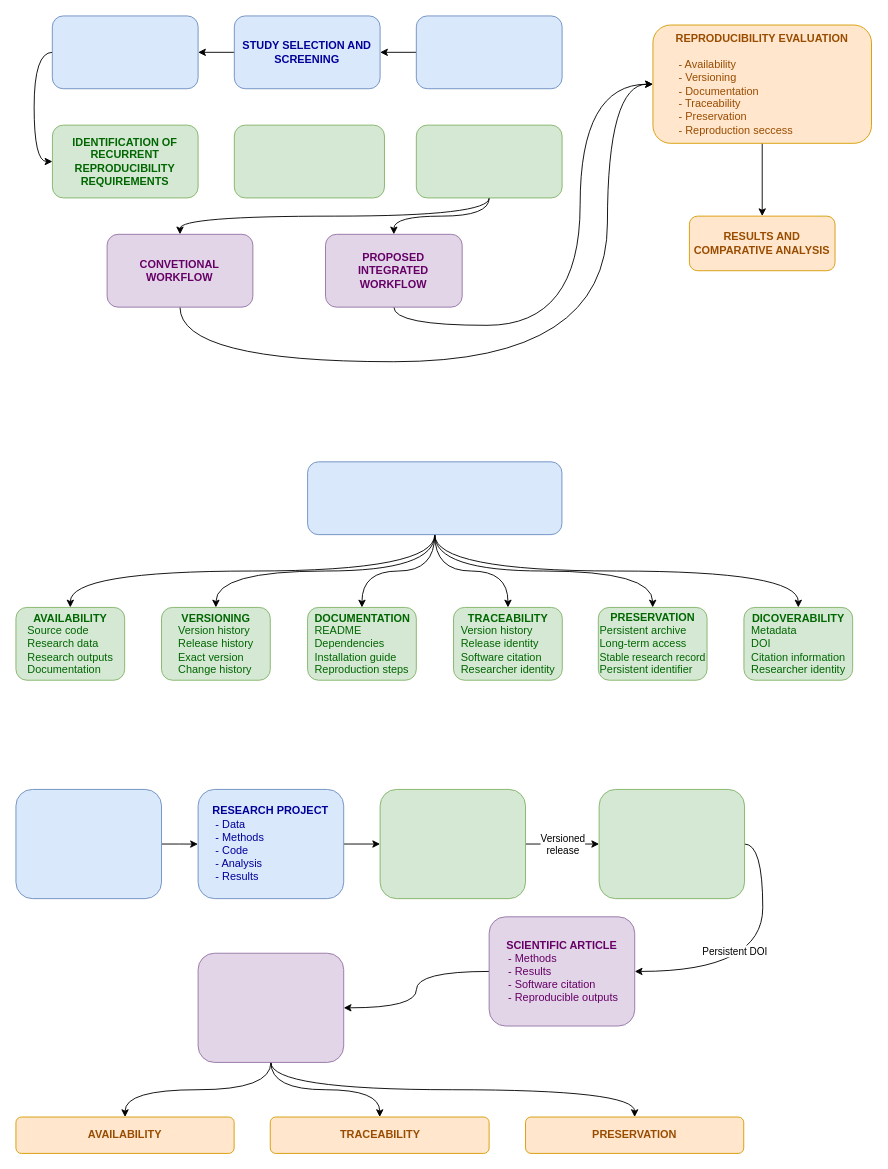
This 888x1169 diagram has some shape labels left out. The shapes that lost their labels are listed below. From the top down, each one's centre as x and y in pixels, then its label:
the point at 124,52: DATA EXTRACTION AND CONTENT ANALYSIS
the point at 488,52: LITERATURE SEARCH
the point at 308,161: REPRODUCIBILITY REQUIREMENT FRAMEWORK DEVELOPMENT
the point at 488,161: WORKFLOW IMPLEMENTATION
the point at 434,498: REPRODUCIBLE RESEARCH
the point at 88,844: ORCID Identity Attribution
the point at 452,844: GITHUB - Development - Version control - Documentation - Collaboration
the point at 671,844: ZENODO - DOI - Metadata - Archive - Preservation
the point at 270,1007: RESEARCH REPRODUCIBILITY
